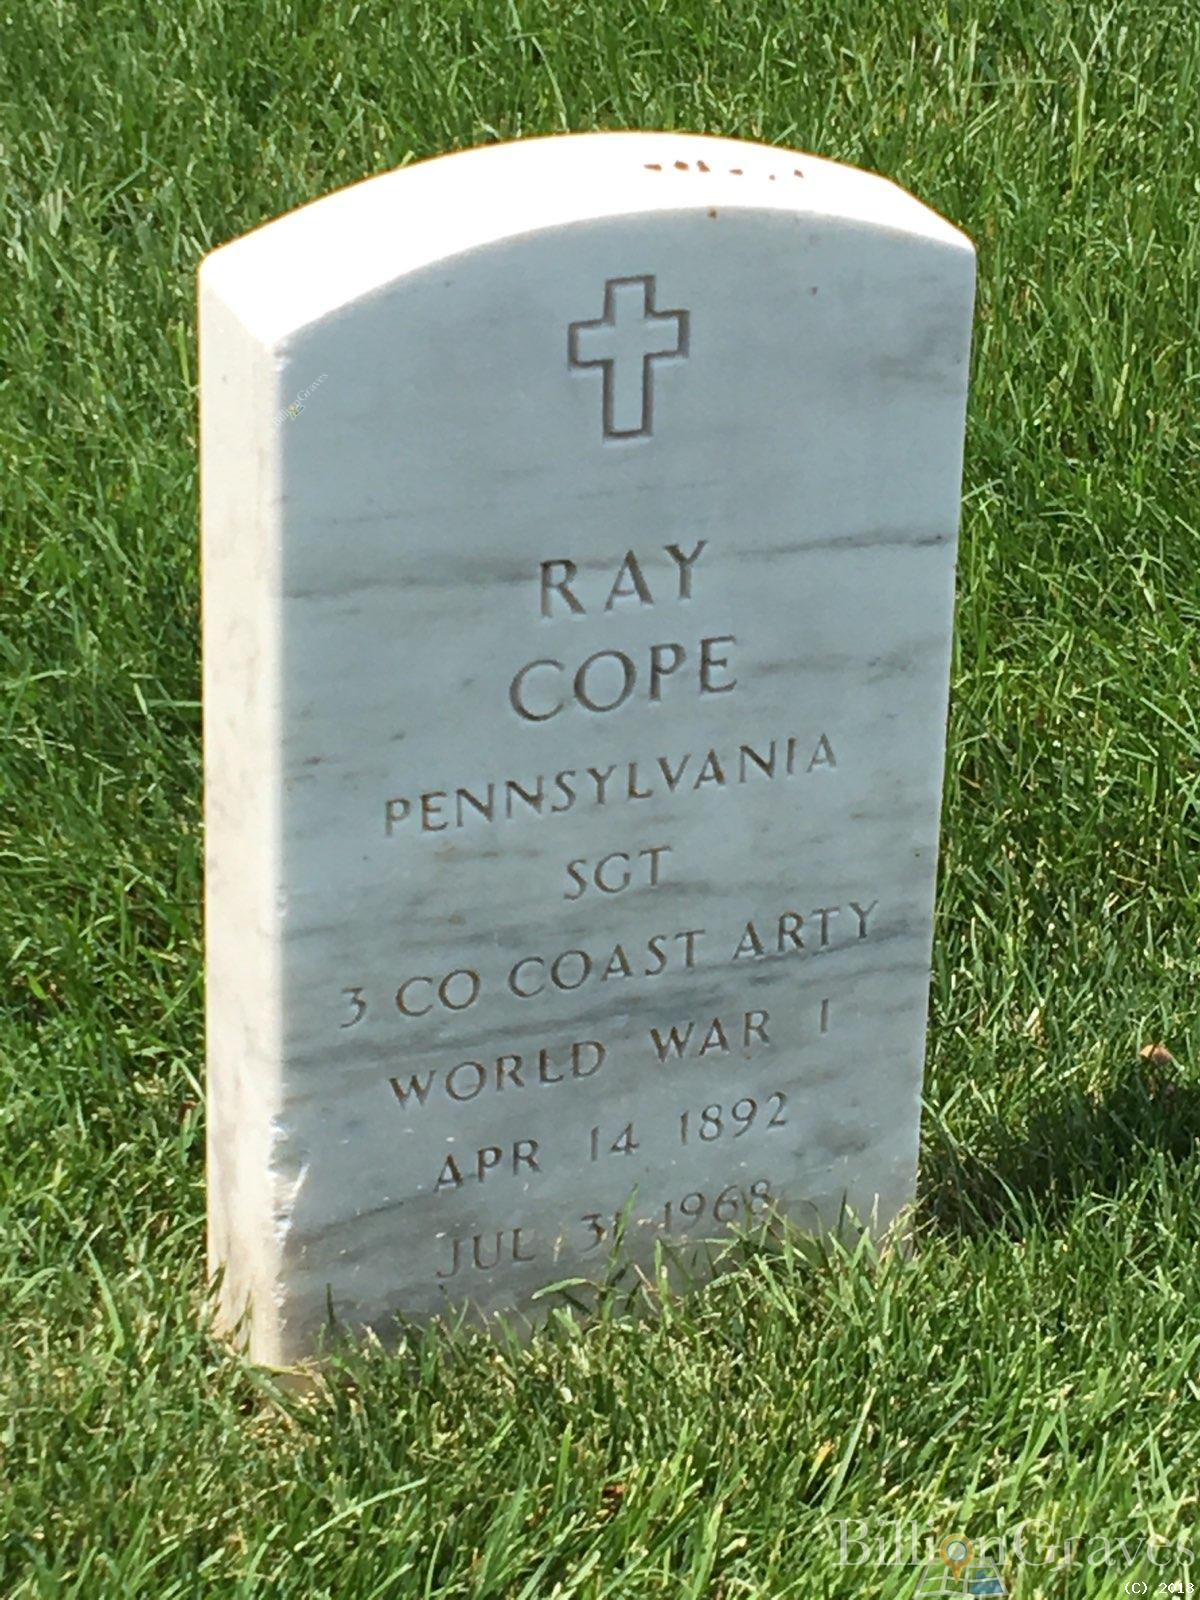military: (185, 129, 973, 1382)
